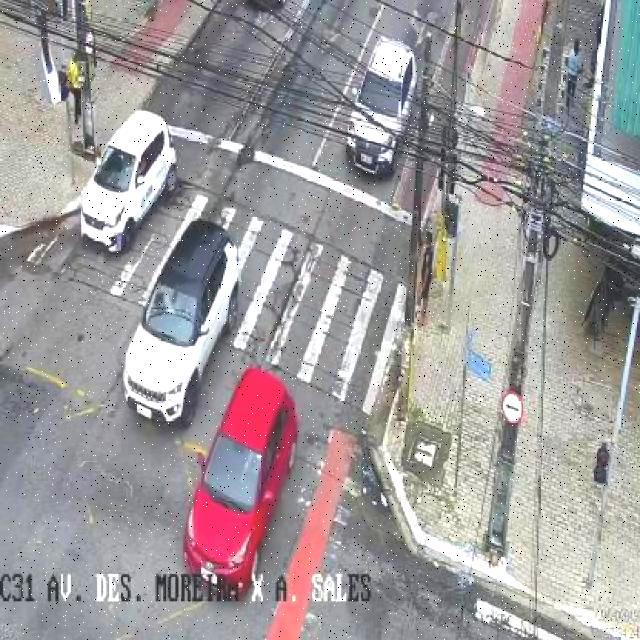car: (184, 368, 298, 596), (122, 220, 238, 424), (81, 111, 176, 252), (348, 36, 418, 174)
